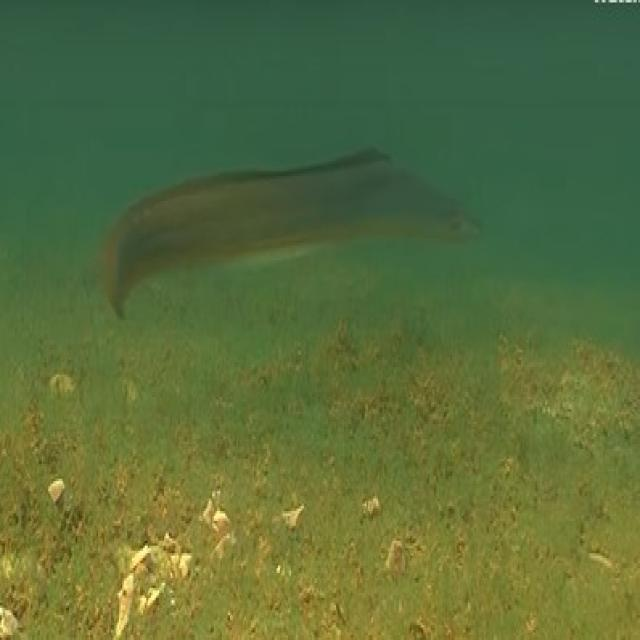Freshwater-Eel: (75, 112, 633, 340)
